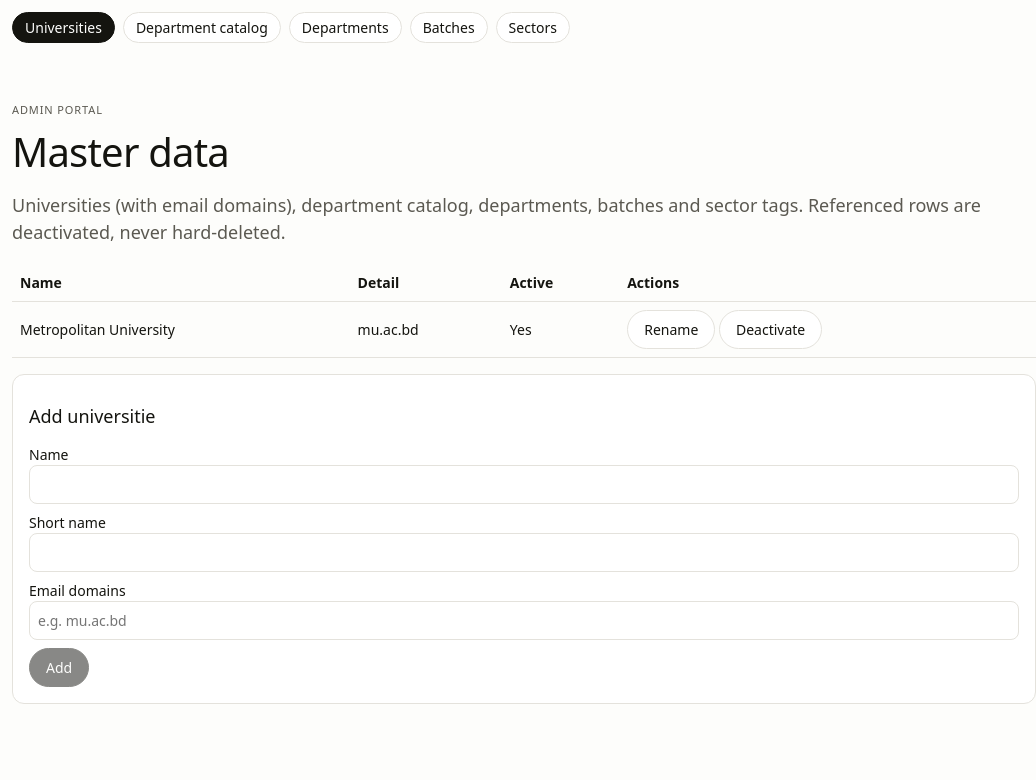
it: Fix 4 — MasterData Add disabled until required fields are chosen › departments Add stays disabled without a catalog, then POSTs catalogId once chosen
Later steps or results of the test are not shown.
Expected: the text "Metropolitan University" is shown, [12, 301, 350, 357]
Click the tab "Departments" at (345, 28), box [289, 12, 402, 43]
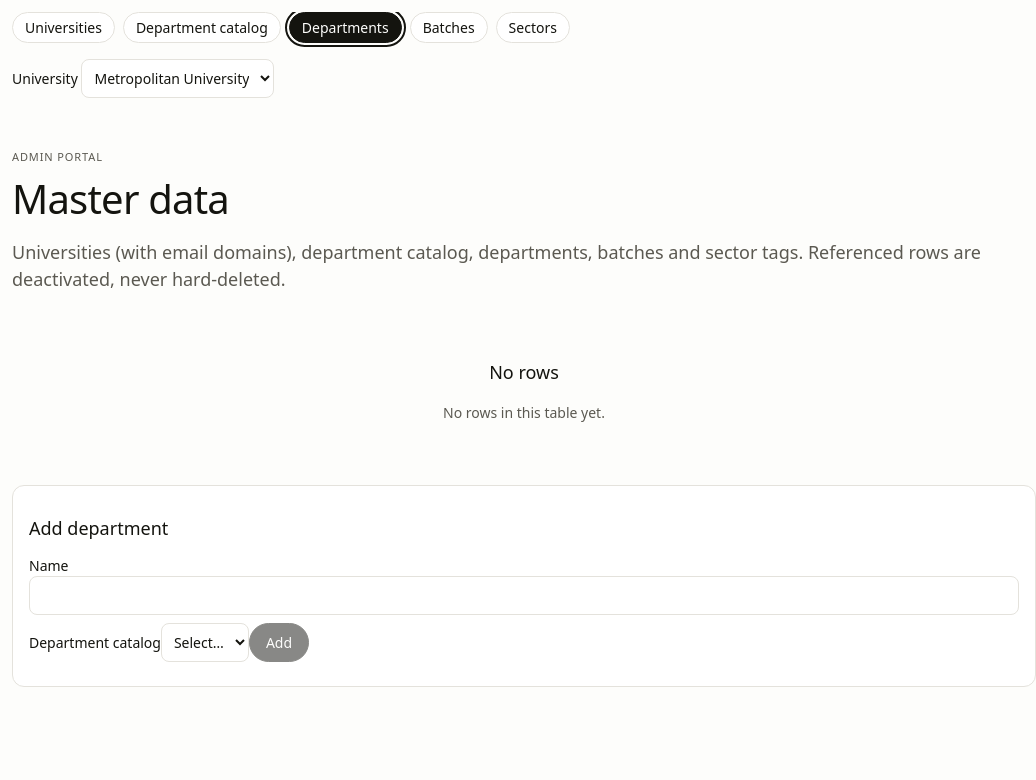
Expected: the button "Add" is disabled, [249, 623, 309, 662]
Type "CSE Dept" into the field labelled "Name" at (524, 596), box [29, 576, 1019, 615]
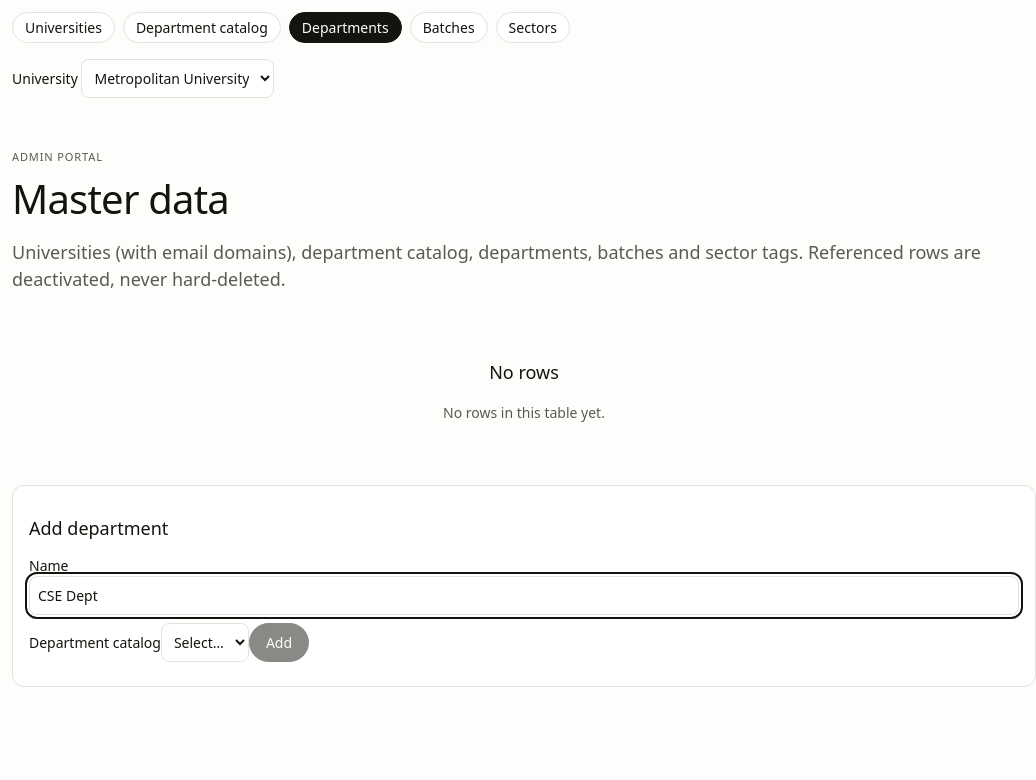
Expected: the button "Add" is disabled, [249, 623, 309, 662]
Select "CSE" in the dropdown labelled "Department catalog" at (205, 643), box [161, 623, 249, 662]
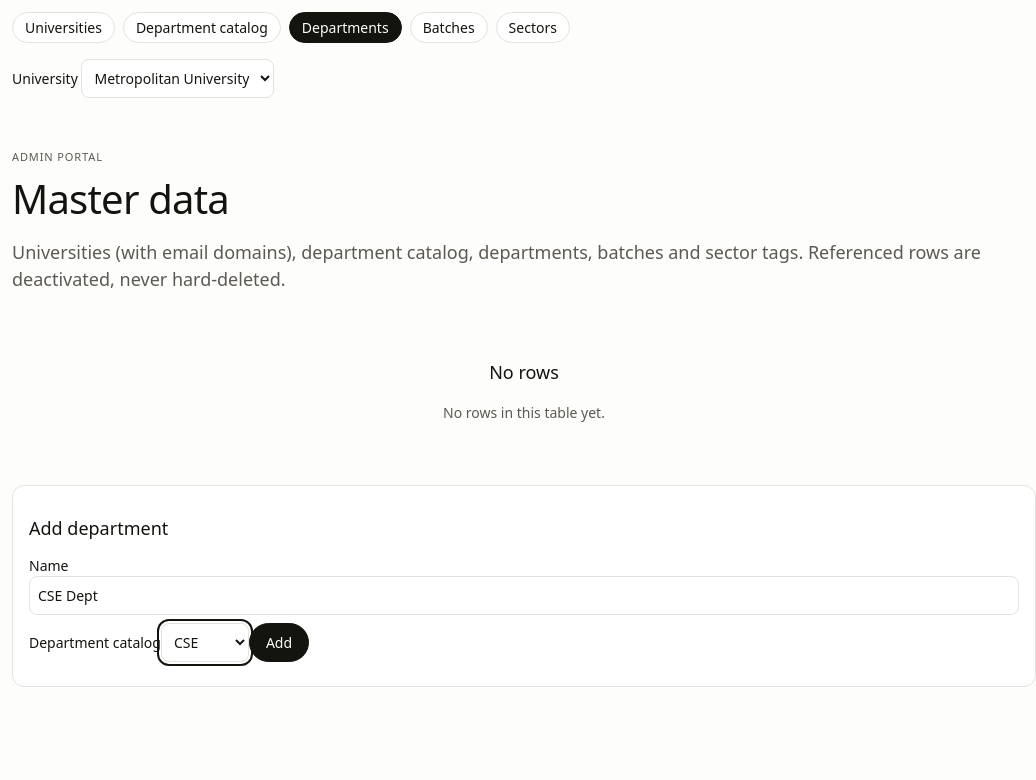
Expected: the button "Add" is enabled, [249, 623, 309, 662]
